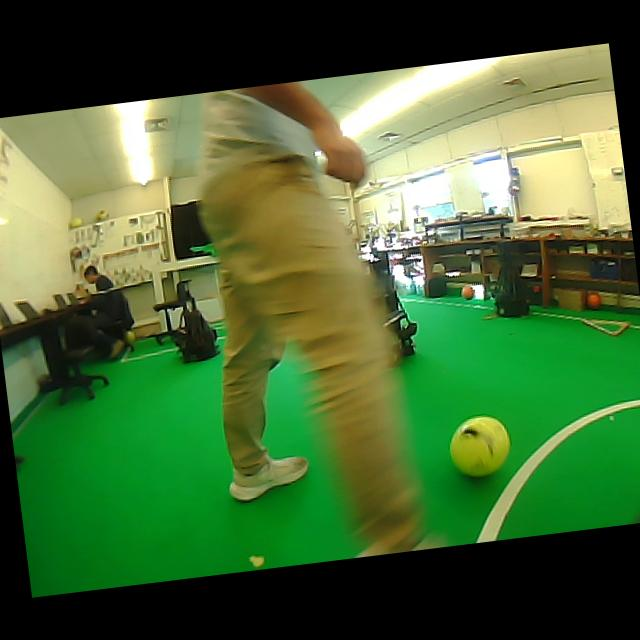ball: (449, 415, 510, 476), (587, 291, 601, 308), (125, 329, 135, 350), (460, 284, 473, 299), (68, 217, 83, 229), (95, 209, 109, 220)
robot: (370, 251, 417, 359), (174, 280, 218, 362), (495, 262, 528, 316)
